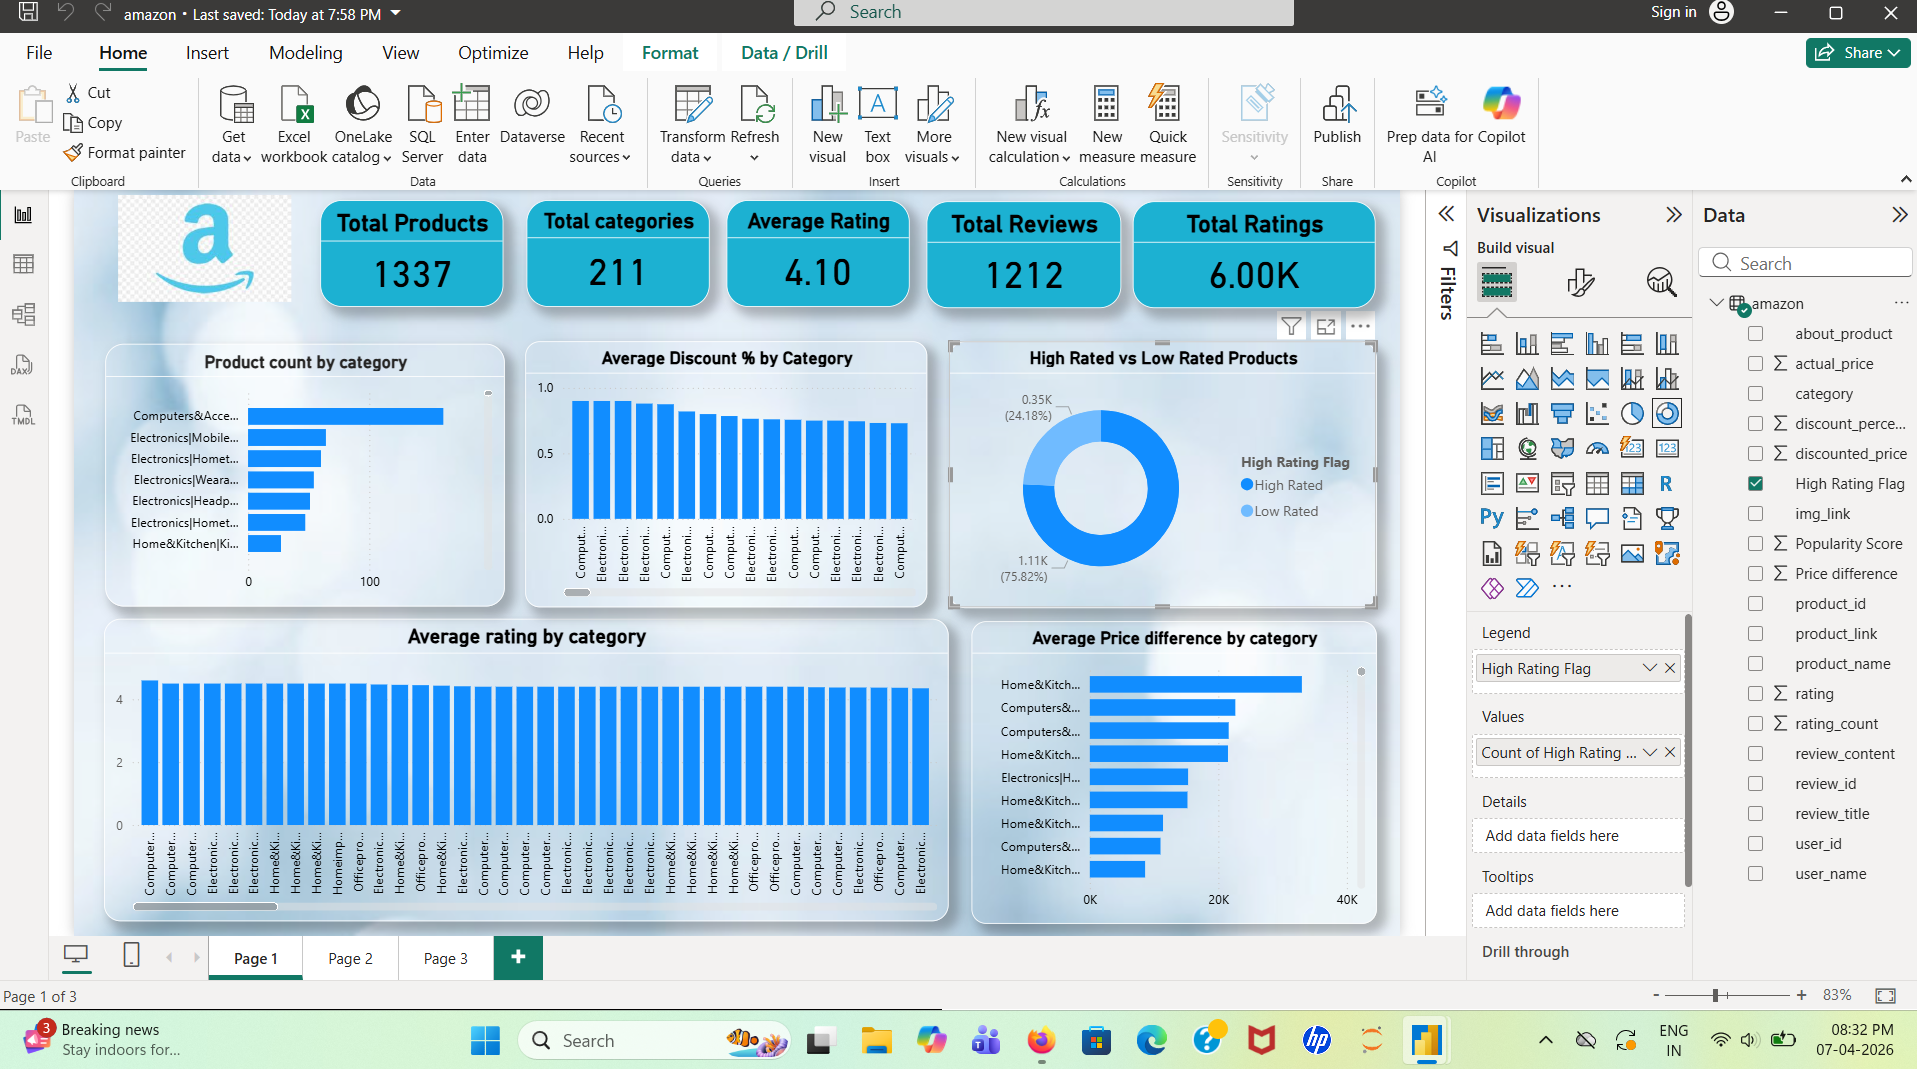

This screenshot's page, from the dashboard's own definition file:
{"tool":"powerbi","page":{"name":"Page 1","canvas":[1280,720],"ordinal":0},"visuals":[{"type":"barChart","title":"Product count  by category","fields":{"Category":["amazon.category"],"Y":["Count(amazon.product_name)"]},"box":[30.2,148.2,385.6,253.9],"z":0},{"type":"clusteredColumnChart","title":"Average rating by category","fields":{"Y":["Avg(amazon.rating)"],"Category":["amazon.category"]},"box":[28.8,414.4,815.1,292.3],"z":1000},{"type":"clusteredColumnChart","title":"Average Discount % by Category","fields":{"Category":["amazon.category"],"Y":["Avg(amazon.discount_percentage)"]},"box":[435,145.5,388.3,256.6],"z":2000},{"type":"donutChart","title":"High Rated vs Low Rated Products","fields":{"Category":["amazon.High Rating Flag"],"Y":["CountNonNull(amazon.High Rating Flag)"]},"box":[843.9,145.5,413,258],"z":3000},{"type":"barChart","title":"Average Price difference by category","fields":{"Category":["amazon.category"],"Y":["Avg(amazon.Price difference)"]},"box":[865.9,415.8,391.1,292.3],"z":4000},{"type":"image","box":[28.9,0,194.3,113],"z":5000},{"type":"card","title":"Total Products","fields":{"Values":["Count(amazon.product_name)"]},"box":[237.4,9.6,177,102.9],"z":6000},{"type":"card","title":"Total categories","fields":{"Values":["Count(amazon.category)"]},"box":[436.4,9.6,177,102.9],"z":7000},{"type":"card","title":"Average Rating","fields":{"Values":["Avg(amazon.rating)"]},"box":[629.8,9.6,177,102.9],"z":8000},{"type":"card","title":"Total Reviews","fields":{"Values":["Count(amazon.review_content)"]},"box":[823.3,11,188,102.9],"z":9000},{"type":"card","title":"Total Ratings","fields":{"Values":["Sum(amazon.rating)"]},"box":[1022.3,11,234.6,102.9],"z":10000}]}

Visuals, with their boxes on the page's 1280x720 design canvas (x1, y1, x2, y2). These are canvas units, not pixel positions in the 1917x1069 screenshot, which may show the page scaled, cropped or inside an application window:
"Product count  by category" barChart: {"x1": 30, "y1": 148, "x2": 416, "y2": 402}
"Average rating by category" clusteredColumnChart: {"x1": 29, "y1": 414, "x2": 844, "y2": 707}
"Average Discount % by Category" clusteredColumnChart: {"x1": 435, "y1": 146, "x2": 823, "y2": 402}
"High Rated vs Low Rated Products" donutChart: {"x1": 844, "y1": 146, "x2": 1257, "y2": 404}
"Average Price difference by category" barChart: {"x1": 866, "y1": 416, "x2": 1257, "y2": 708}
image: {"x1": 29, "y1": 0, "x2": 223, "y2": 113}
"Total Products" card: {"x1": 237, "y1": 10, "x2": 414, "y2": 112}
"Total categories" card: {"x1": 436, "y1": 10, "x2": 613, "y2": 112}
"Average Rating" card: {"x1": 630, "y1": 10, "x2": 807, "y2": 112}
"Total Reviews" card: {"x1": 823, "y1": 11, "x2": 1011, "y2": 114}
"Total Ratings" card: {"x1": 1022, "y1": 11, "x2": 1257, "y2": 114}
